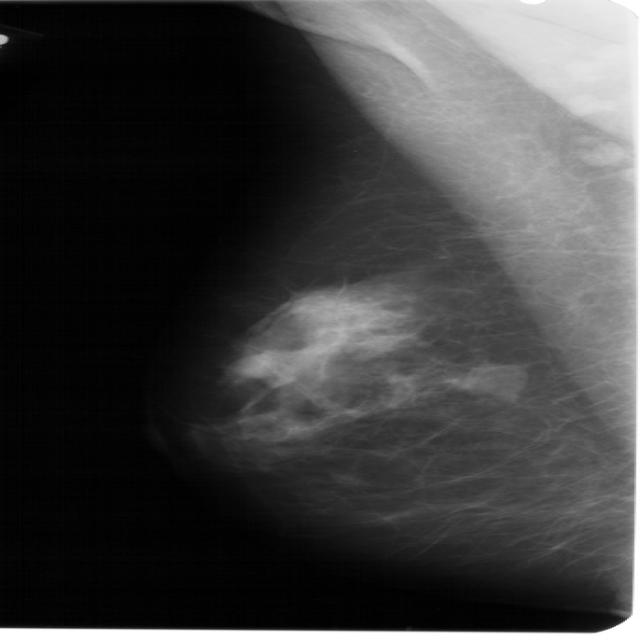tumour: (465, 361, 526, 398)
